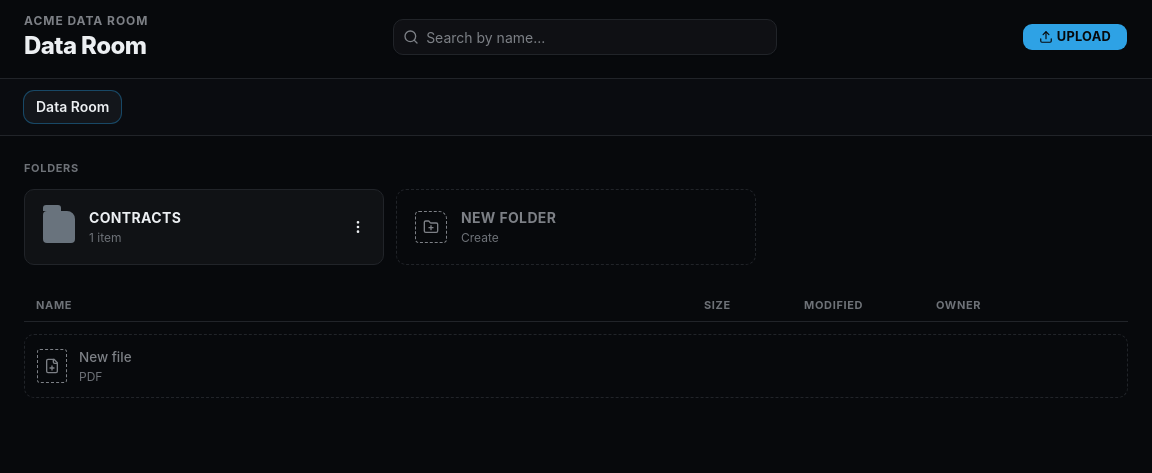
it: DataRoomPage › shows a file search hit in its parent folder
Expected: the button "New folder Create" is shown, x1=396 y1=188 x2=756 y2=264
Type "nda" into the field with placeholder "Search by name..." at (585,37), box x1=393 y1=19 x2=777 y2=55
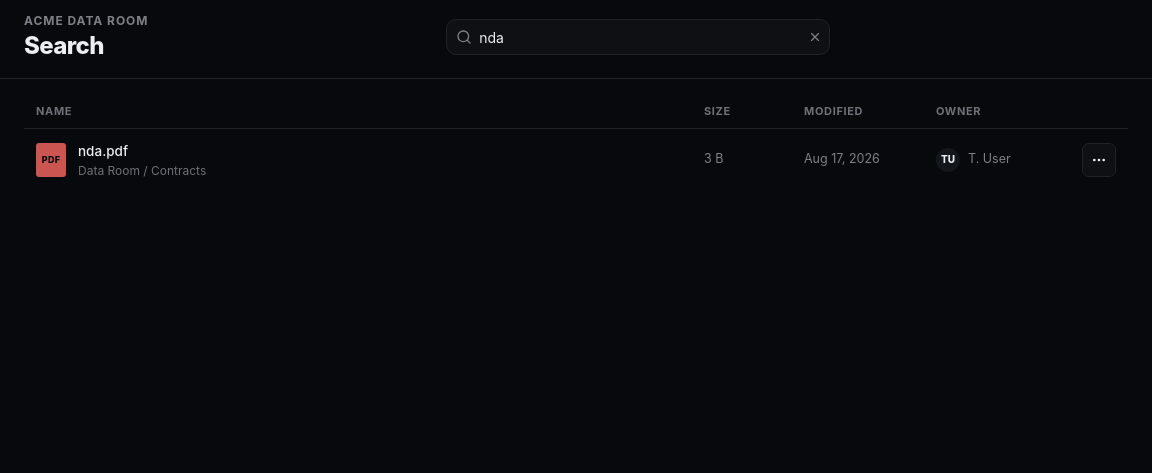
Click the button named "Actions for nda.pdf" at (1099,160), box x1=1082 y1=143 x2=1116 y2=177
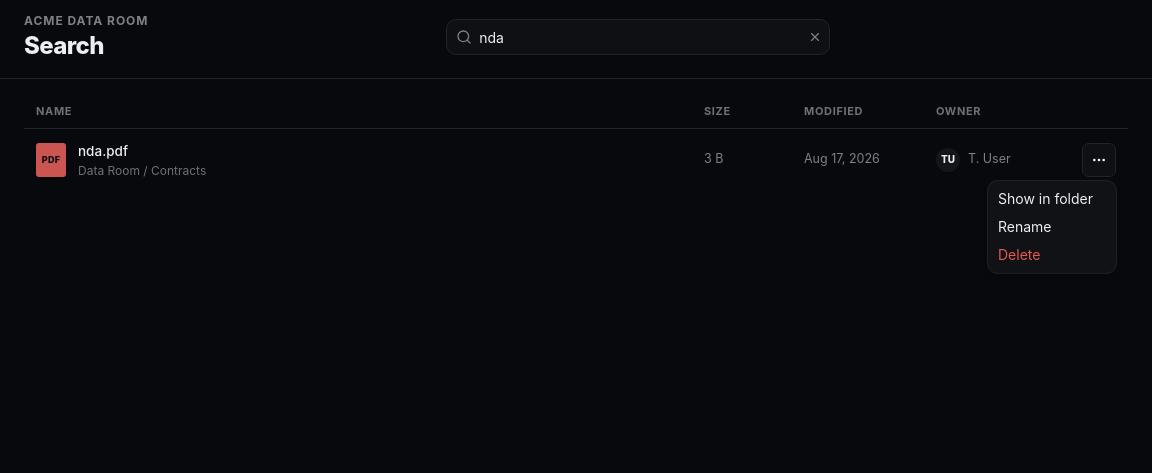
Click the menu item "Show in folder" at (1046,198), box x1=998 y1=190 x2=1093 y2=207
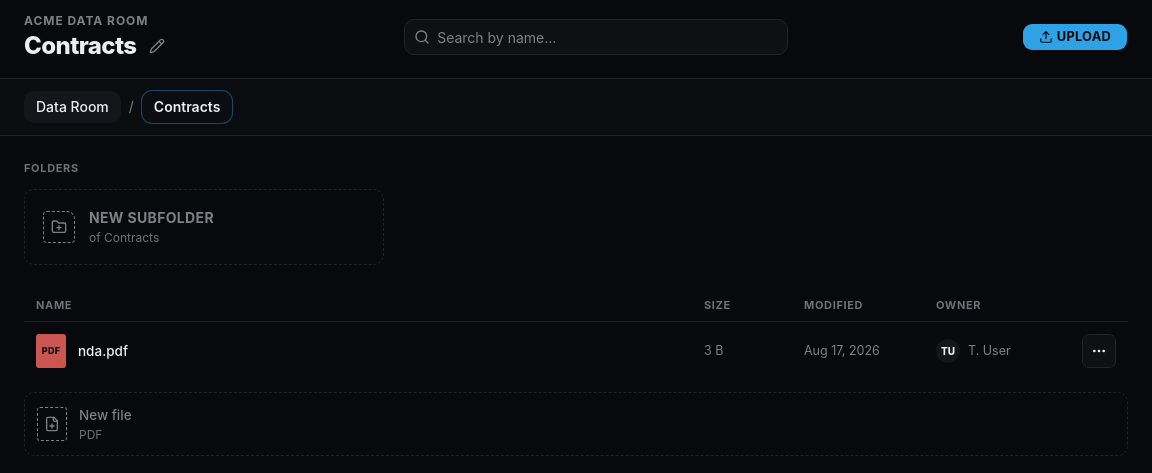
Now the button "New subfolder of Contracts" is shown, box x1=24 y1=188 x2=384 y2=264
Now the field with placeholder "Search by name..." is empty, box x1=404 y1=19 x2=788 y2=55
